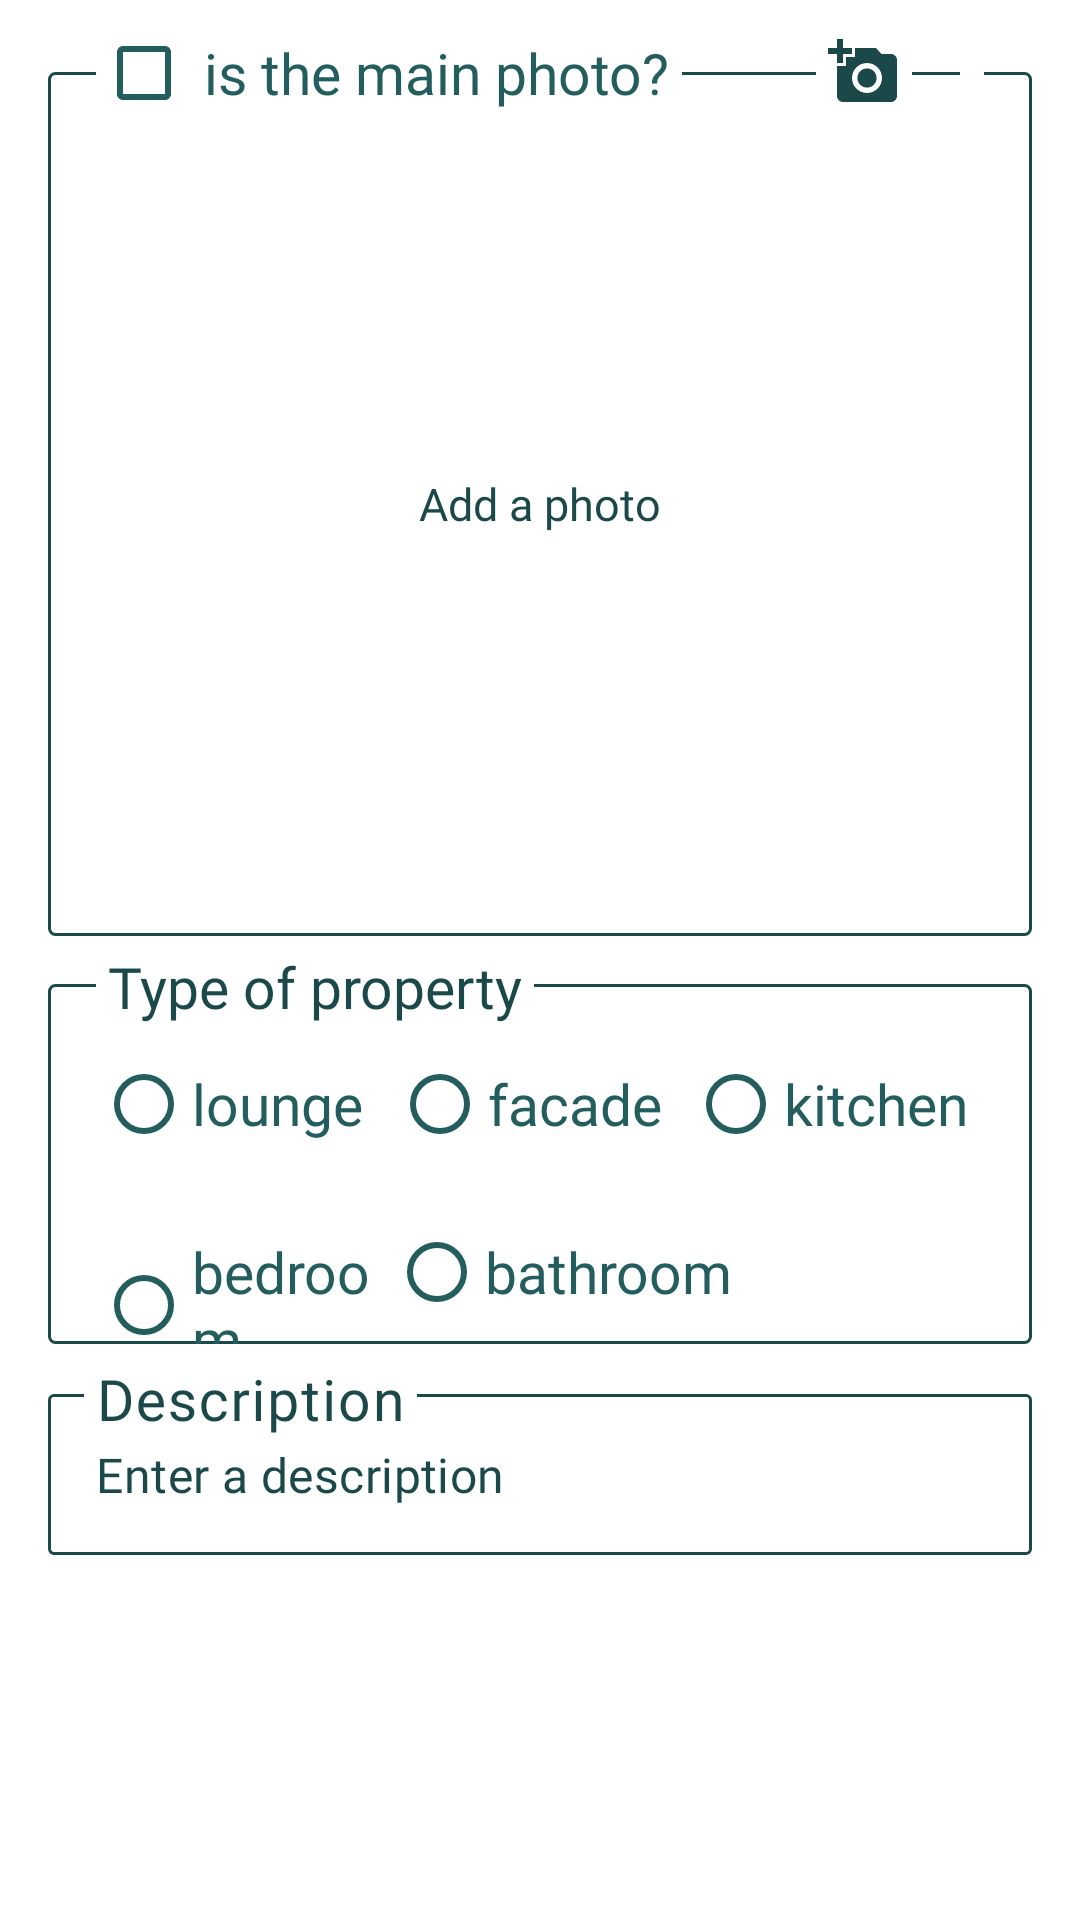

Named icons in this screenshot (1080w x 1920h) and their centers, (x=x, y=y):
add photo: (x=862, y=70)
